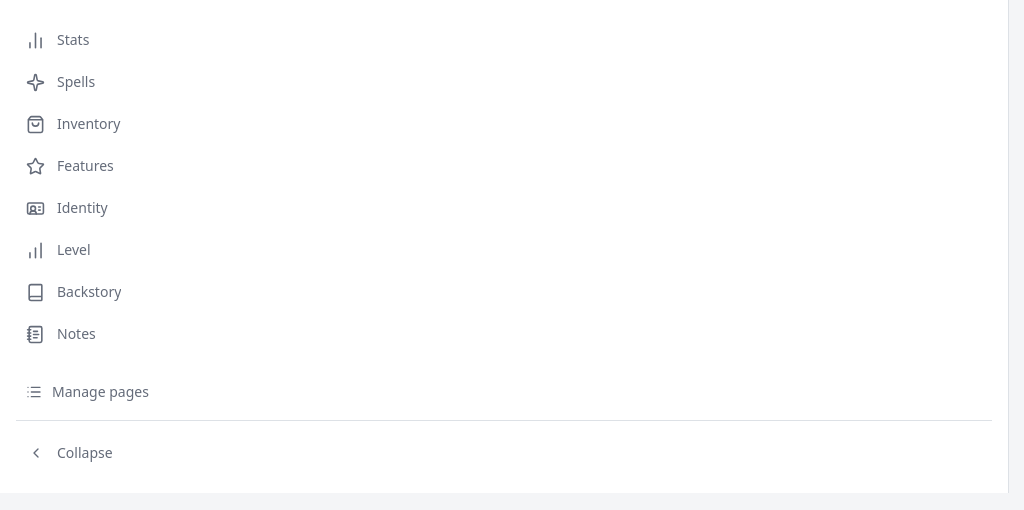
Test case: CharacterSidebar › starts expanded and collapses on click, persisting to localStorage
Expected: the text "Stats" is shown, [57, 30, 89, 50]
Step 1. Click the button with aria-label "Collapse sidebar" → (85, 452), box [16, 433, 992, 473]
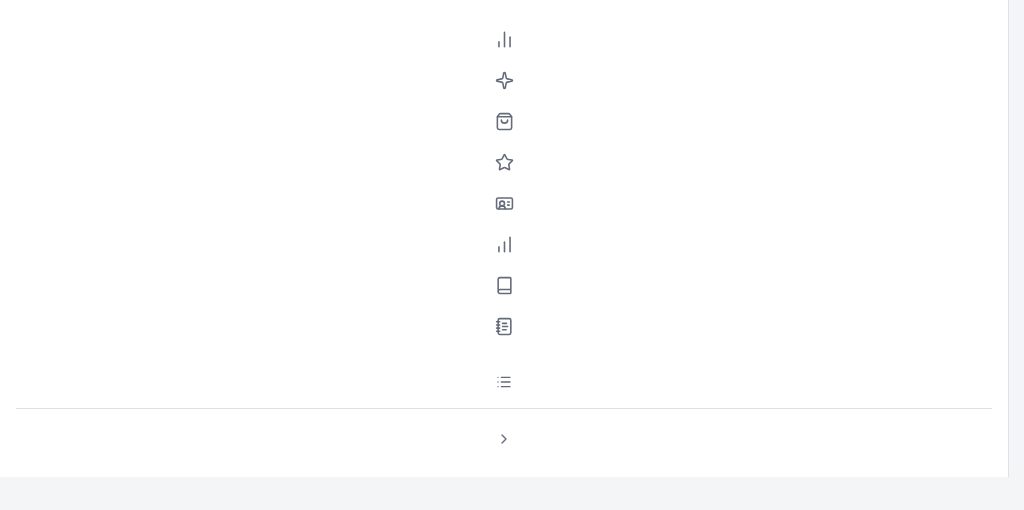
Expected: the link named "Stats" is shown, [494, 30, 514, 49]
Now the button named "Expand sidebar" is shown, box [16, 421, 992, 457]
Now the text "Stats" is gone
